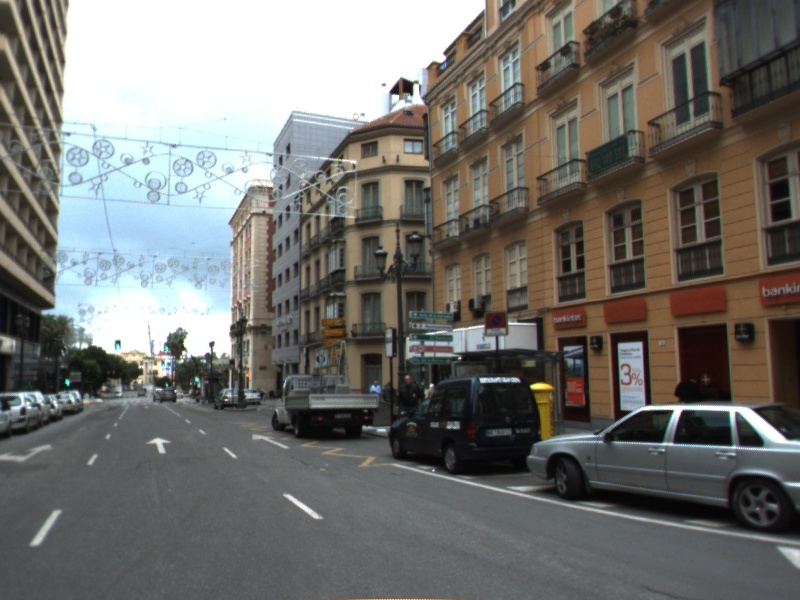STRAIGHT: (249, 431, 294, 451), (144, 435, 174, 455)
STRAIGHT_LEFT: (1, 441, 56, 465)
